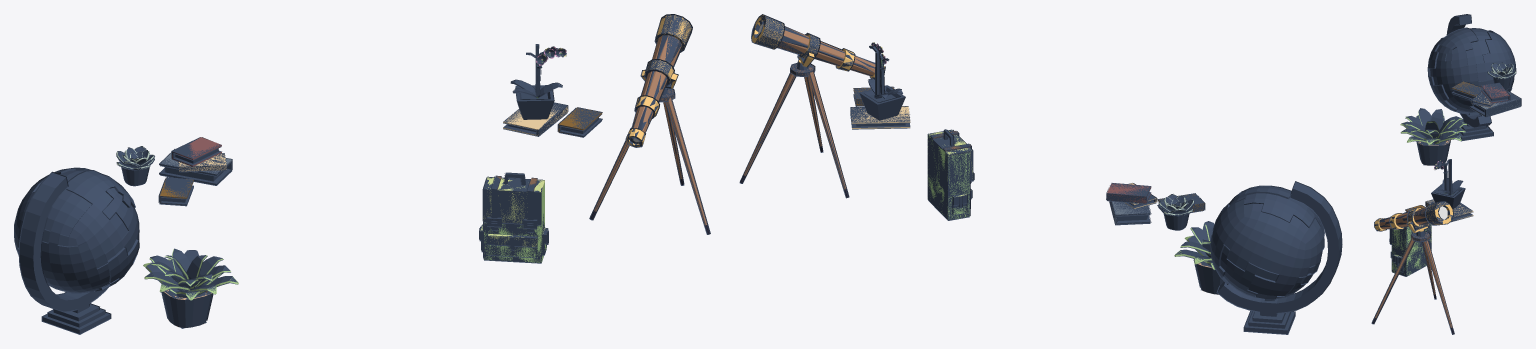
The model's file is decoraciones.glb.
The picture shows the model from 3 angles, left to right: view 1: azimuth 30°, elevation 25°; view 2: azimuth 150°, elevation 25°; view 3: azimuth 270°, elevation 25°; orthographic projection. The views are drawn at different scales.
Parts seen in each view (by area): view 1: deco_globo_outline, deco_bolso_outline, deco_telescopio_outline, deco_planta_suelo_outline, deco_telescopio, deco_libros_mesa1_outline, deco_orquidea_outline, deco_bolso, deco_libro_mesa2_outline, deco_libros_mesa1, deco_planta_suelo, deco_libro_mesa2 (+1 smaller); view 2: deco_globo_outline, deco_telescopio_outline, deco_bolso_outline, deco_telescopio, deco_libros_mesa1_outline, deco_orquidea_outline, deco_planta_suelo_outline, deco_bolso, deco_libro_mesa2_outline, deco_libros_mesa1, deco_suculenta_outline, deco_libro_mesa2; view 3: deco_globo_outline, deco_planta_suelo_outline, deco_telescopio_outline, deco_telescopio, deco_libros_mesa1_outline, deco_bolso_outline, deco_orquidea_outline, deco_bolso, deco_planta_suelo, deco_libros_mesa1, deco_suculenta_outline, deco_libro_mesa2_outline (+2 smaller).
Part boxes in pixels (x1=…): deco_globo_outline: x1=14, y1=167, x2=139, y2=334; deco_bolso_outline: x1=479, y1=172, x2=548, y2=263; deco_telescopio_outline: x1=589, y1=14, x2=710, y2=234; deco_planta_suelo_outline: x1=145, y1=248, x2=237, y2=328; deco_telescopio: x1=590, y1=15, x2=709, y2=233; deco_libros_mesa1_outline: x1=158, y1=137, x2=232, y2=206; deco_orquidea_outline: x1=510, y1=44, x2=566, y2=119; deco_bolso: x1=480, y1=176, x2=547, y2=262; deco_libro_mesa2_outline: x1=503, y1=102, x2=602, y2=137; deco_libros_mesa1: x1=160, y1=137, x2=232, y2=198; deco_planta_suelo: x1=143, y1=249, x2=238, y2=326; deco_libro_mesa2: x1=503, y1=105, x2=602, y2=135; deco_globo_outline: x1=1210, y1=181, x2=1342, y2=334; deco_telescopio_outline: x1=739, y1=14, x2=885, y2=198; deco_bolso_outline: x1=927, y1=129, x2=974, y2=220; deco_telescopio: x1=740, y1=15, x2=884, y2=197; deco_libros_mesa1_outline: x1=1106, y1=183, x2=1205, y2=225; deco_orquidea_outline: x1=859, y1=42, x2=905, y2=120; deco_planta_suelo_outline: x1=1175, y1=221, x2=1223, y2=294; deco_bolso: x1=927, y1=130, x2=972, y2=219; deco_libro_mesa2_outline: x1=850, y1=86, x2=910, y2=129; deco_libros_mesa1: x1=1107, y1=183, x2=1204, y2=224; deco_suculenta_outline: x1=1158, y1=194, x2=1194, y2=230; deco_libro_mesa2: x1=850, y1=87, x2=910, y2=128; deco_globo_outline: x1=1427, y1=14, x2=1516, y2=141; deco_planta_suelo_outline: x1=1401, y1=108, x2=1466, y2=165; deco_telescopio_outline: x1=1371, y1=201, x2=1454, y2=334; deco_telescopio: x1=1372, y1=202, x2=1454, y2=333; deco_libros_mesa1_outline: x1=1451, y1=81, x2=1521, y2=117; deco_bolso_outline: x1=1389, y1=211, x2=1431, y2=276; deco_orquidea_outline: x1=1431, y1=159, x2=1465, y2=208; deco_bolso: x1=1392, y1=224, x2=1431, y2=276; deco_planta_suelo: x1=1400, y1=111, x2=1467, y2=145; deco_libros_mesa1: x1=1451, y1=81, x2=1520, y2=116; deco_suculenta_outline: x1=1487, y1=62, x2=1516, y2=89; deco_libro_mesa2_outline: x1=1405, y1=199, x2=1473, y2=224.
Size of the model in its own units: 5.5 by 1.46 by 1.54.
